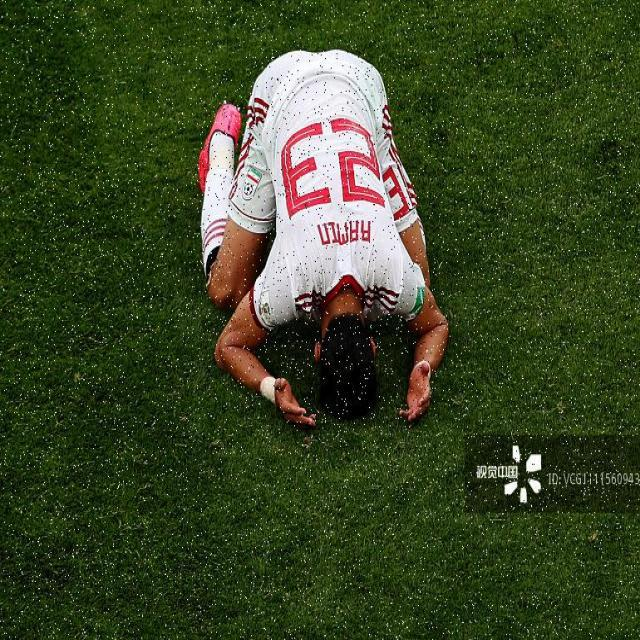fall: (200, 56, 450, 428)
